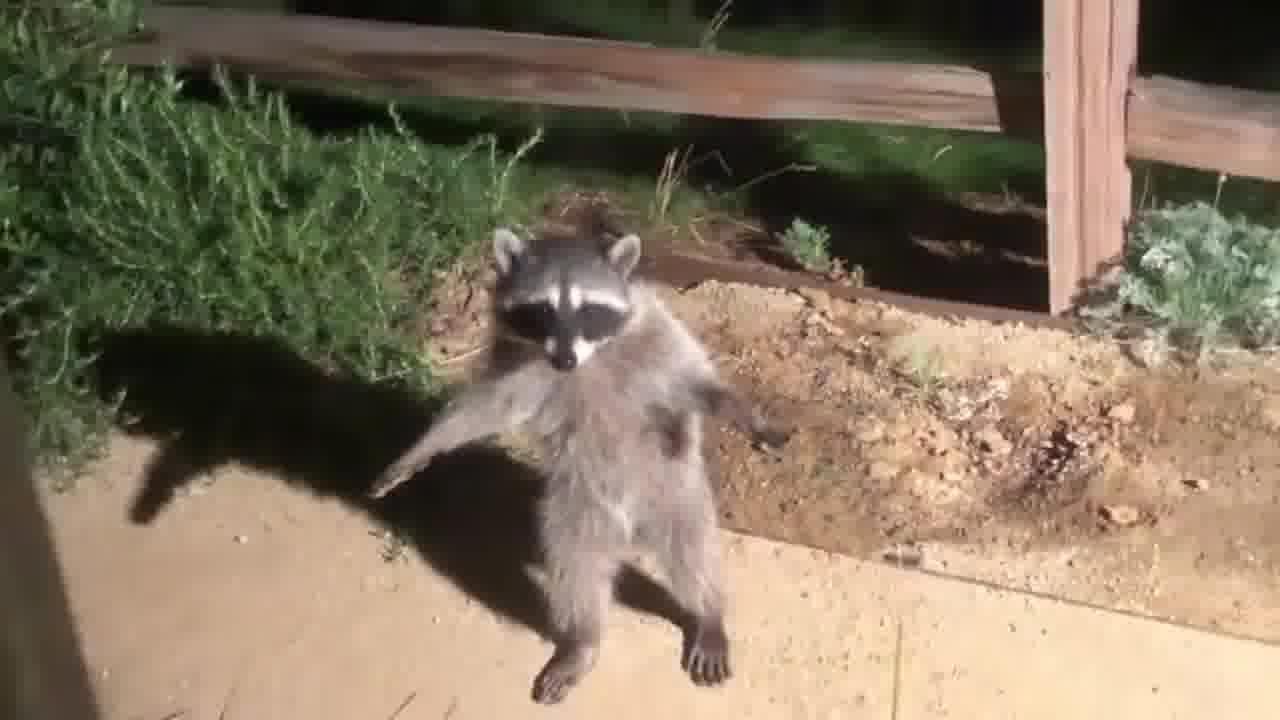raccoon: (364, 216, 811, 711)
